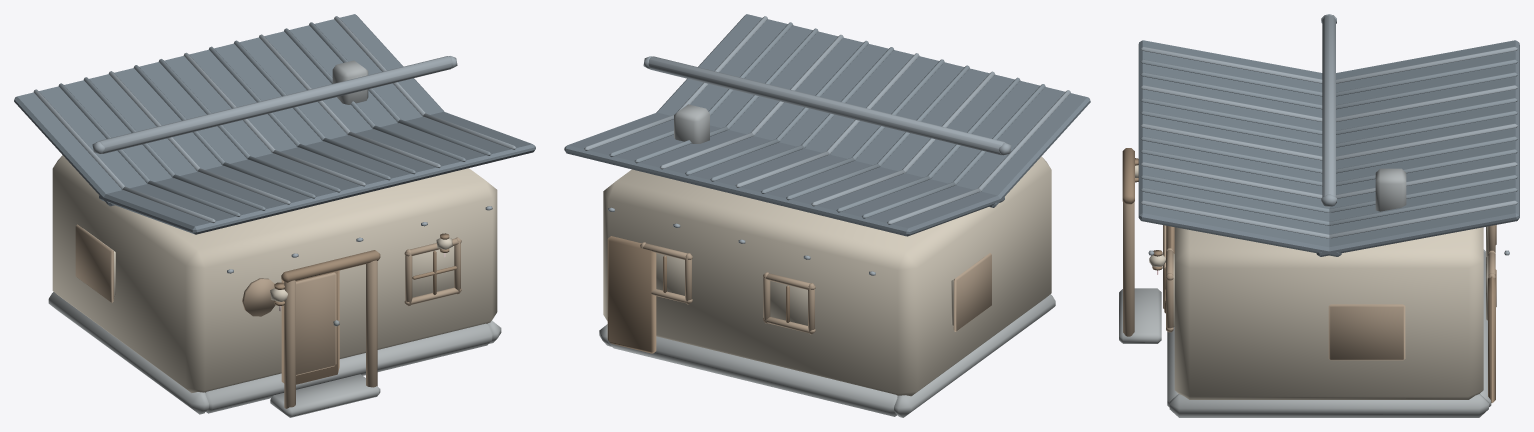
The model's file is custom_house.glb.
The picture shows the model from 3 angles, left to right: view 1: azimuth 30°, elevation 25°; view 2: azimuth 150°, elevation 25°; view 3: azimuth 270°, elevation 25°; orthographic projection. The views are drawn at different scales.
Visible parts, largest first — view 1: custom_house; view 2: custom_house; view 3: custom_house.
Part boxes in pixels (x1,y1,x2,y2): custom_house: [14, 14, 535, 417]; custom_house: [564, 14, 1090, 417]; custom_house: [1119, 14, 1519, 417].
Bounding box in the file's own units: 6.39 × 3.84 × 5.84.
